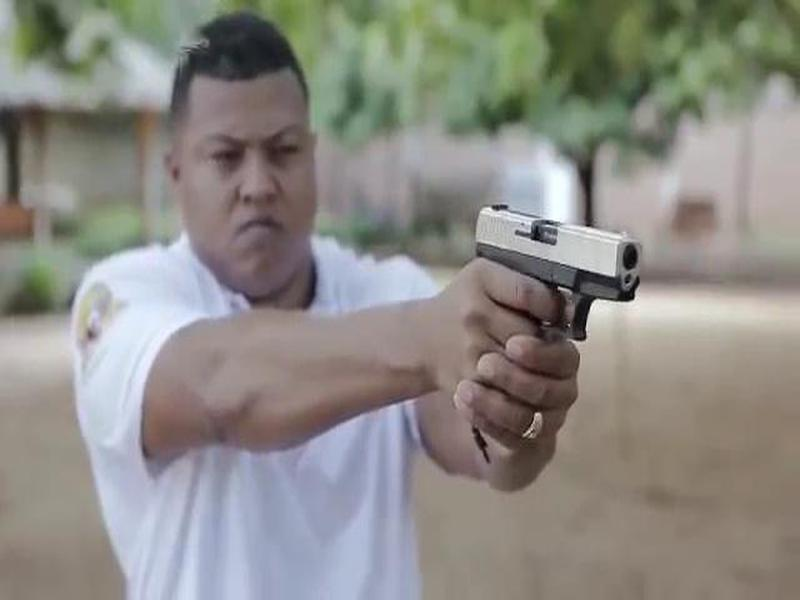Pistola: (447, 199, 657, 364)
